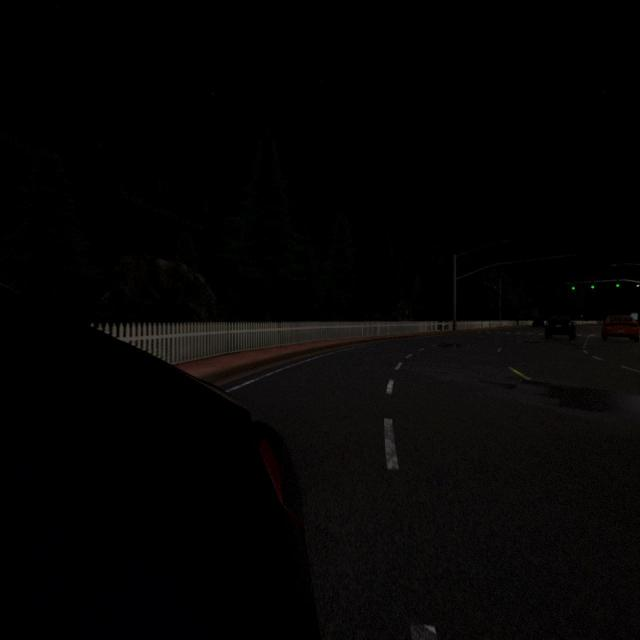Vehicle: (0, 292, 316, 640), (601, 313, 640, 340), (543, 314, 577, 344)
traffic_light: (636, 282, 640, 289), (572, 282, 575, 290), (616, 280, 619, 287), (592, 281, 594, 289)
